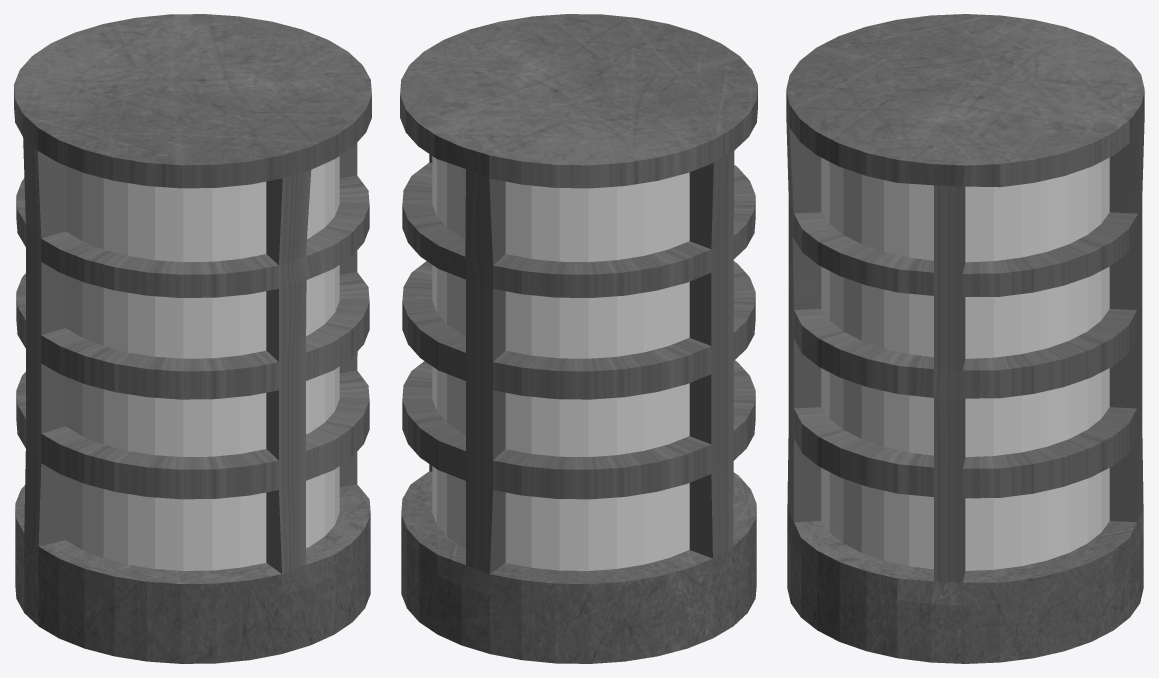
File: Lamp.fbx
3 views of the same model, side by side, from view 1: azimuth 30°, elevation 25°; view 2: azimuth 150°, elevation 25°; view 3: azimuth 270°, elevation 25° (orthographic).
Parts seen in each view (by area): view 1: Cylinder; view 2: Cylinder; view 3: Cylinder.
Boxes of the visible parts, box(x1,y1,x2,y2) form: Cylinder: box(14, 14, 371, 663); Cylinder: box(400, 14, 757, 663); Cylinder: box(786, 14, 1144, 663).
Bounding box in the file's own units: 87.48 × 134 × 87.48.
